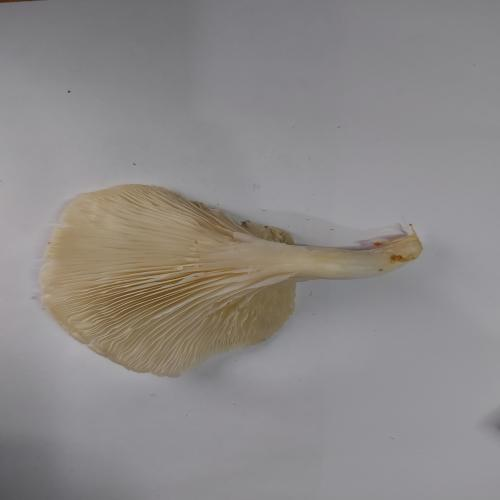Oyster Mushroom: (38, 183, 424, 379)
